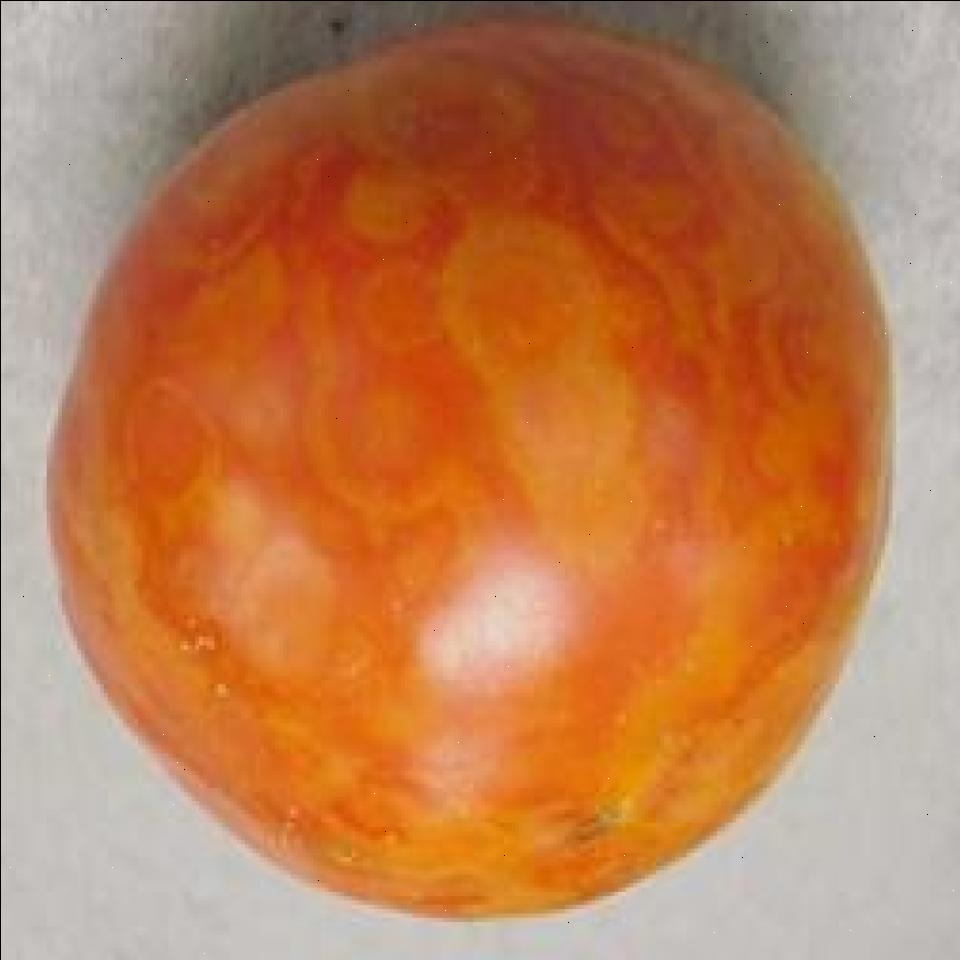Spotted wilt Virus: (46, 26, 891, 917)
